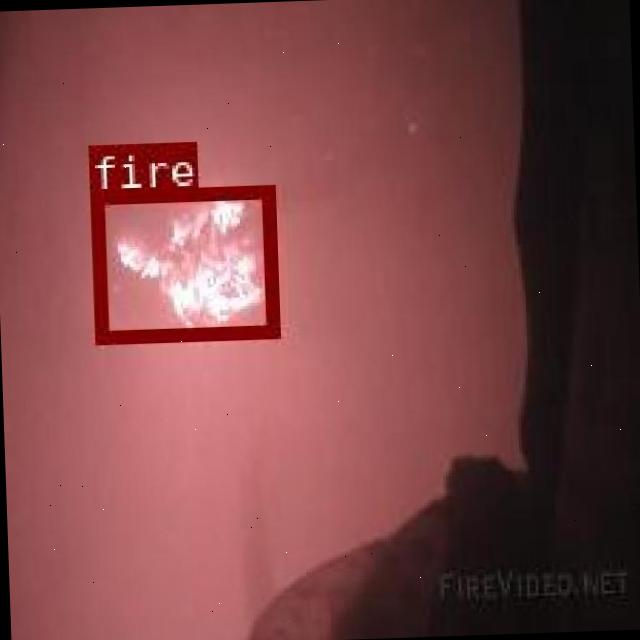fire: (88, 184, 276, 340)
